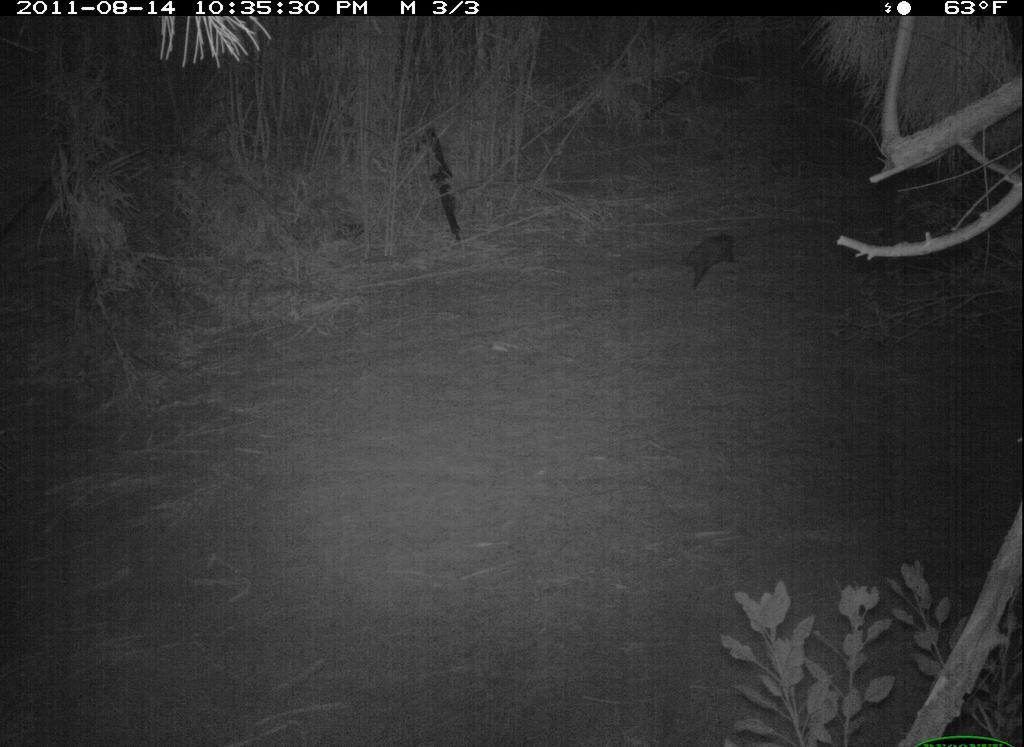opossum: (673, 226, 745, 303)
